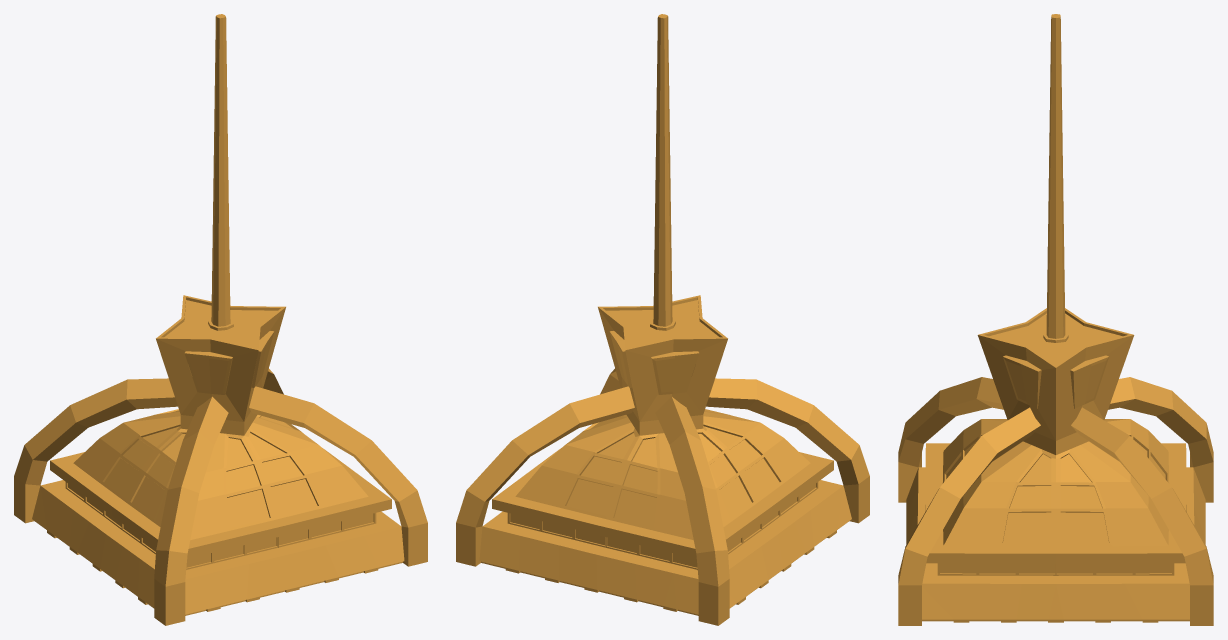
Rendered from skyscraper-part-top.fbx.
The picture shows the model from 3 angles, left to right: view 1: azimuth 30°, elevation 25°; view 2: azimuth 150°, elevation 25°; view 3: azimuth 270°, elevation 25°; orthographic projection. The views are drawn at different scales.
Parts seen in each view (by area): view 1: skyscraper-part-top; view 2: skyscraper-part-top; view 3: skyscraper-part-top.
Part boxes in pixels (x1,y1,x2,y2): skyscraper-part-top: [14, 14, 427, 625]; skyscraper-part-top: [456, 14, 869, 625]; skyscraper-part-top: [898, 14, 1213, 625].
Size of the model in its own units: 20 by 38.04 by 20.
